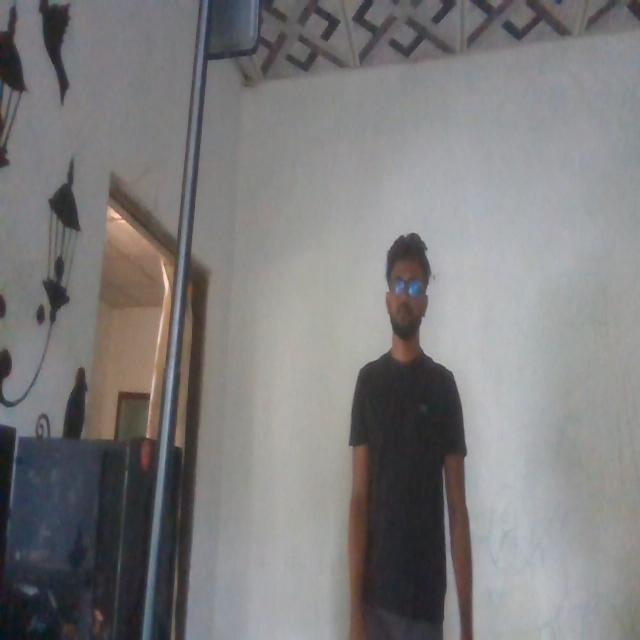Person: (341, 226, 463, 640)
